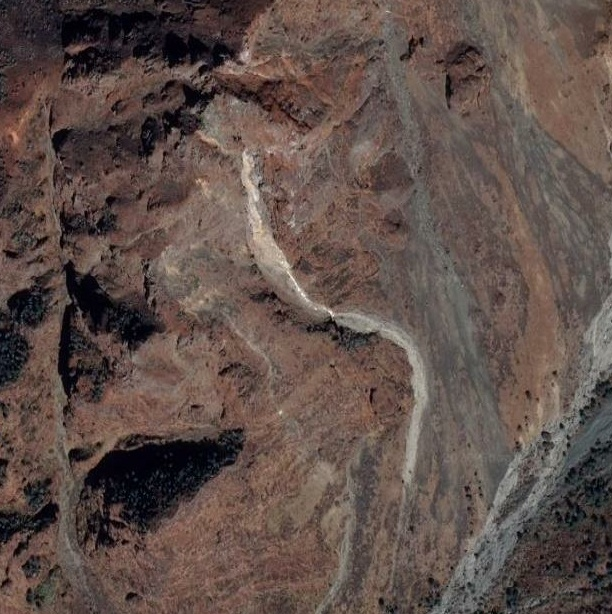slope: (238, 144, 439, 485)
